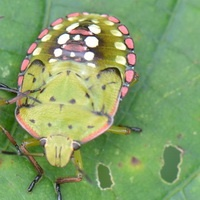insect: (0, 12, 140, 199)
